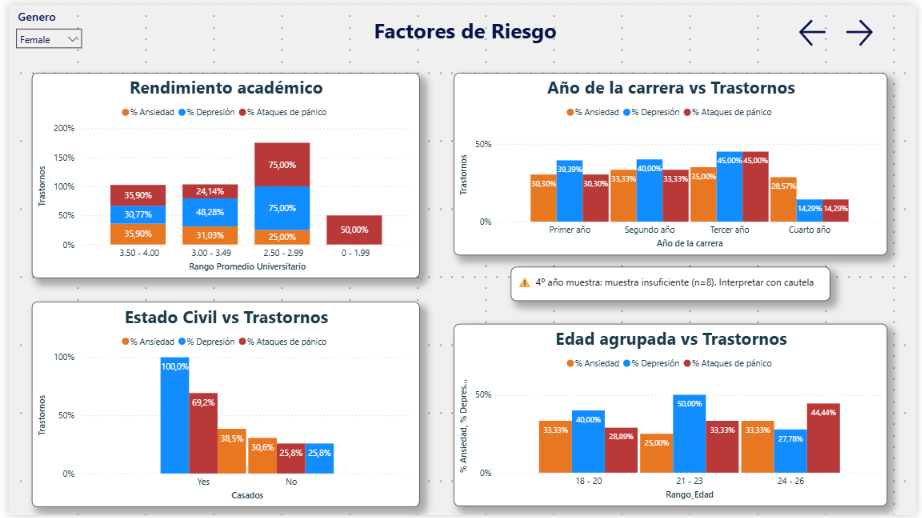

What the dashboard file says about the page in this screenshot:
{"tool":"powerbi","page":{"name":"Factores de Riesgo","canvas":[1280,720],"ordinal":1},"visuals":[{"type":"slicer","fields":{"Values":["Datos Limpios.Genero"]},"box":[0,0,112,64],"z":0},{"type":"columnChart","title":"Rendimiento académico","fields":{"Category":["Datos Limpios.Rango Promedio universitario"],"Y":["Datos Limpios.% Ansiedad","Datos Limpios.% Depresión","Datos Limpios.% Ataques de pánico"]},"box":[32,96,544,288],"z":1000},{"type":"clusteredColumnChart","title":"Estado Civil vs Trastornos","fields":{"Category":["Datos Limpios.Casados"],"Y":["Datos Limpios.% Ansiedad","Datos Limpios.% Depresión","Datos Limpios.% Ataques de pánico"]},"box":[32,416,544,288],"z":2000},{"type":"clusteredColumnChart","title":"Edad agrupada vs Trastornos","fields":{"Y":["Datos Limpios.% Ansiedad","Datos Limpios.% Depresión","Datos Limpios.% Ataques de pánico"],"Category":["Datos Limpios.Rango_Edad"]},"box":[624,448,608,256],"z":3000},{"type":"clusteredColumnChart","title":"Año de la carrera vs Trastornos","fields":{"Y":["Datos Limpios.% Ansiedad","Datos Limpios.% Depresión","Datos Limpios.% Ataques de pánico"],"Category":["Datos Limpios.Año_carrera"]},"box":[624,96,608,256],"z":4000},{"type":"textbox","box":[704,368,448,48],"z":5000},{"type":"textbox","title":"Factores de Riesgo","box":[496,16,288,48],"z":6000},{"type":"actionButton","box":[1104,16,48,48],"z":7000},{"type":"actionButton","box":[1168,16,48,48],"z":8000}]}

Visuals, with their boxes in screenshot pixels (x1, y1, x2, y2), scaled from the page's 1280x720 canvas onto the 922x518 screenshot:
slicer - Datos Limpios.Genero: <box>0,0,81,46</box>
"Rendimiento académico" columnChart: <box>23,69,415,276</box>
"Estado Civil vs Trastornos" clusteredColumnChart: <box>23,299,415,506</box>
"Edad agrupada vs Trastornos" clusteredColumnChart: <box>449,322,887,506</box>
"Año de la carrera vs Trastornos" clusteredColumnChart: <box>449,69,887,253</box>
textbox: <box>507,265,830,299</box>
"Factores de Riesgo" textbox: <box>357,12,565,46</box>
actionButton: <box>795,12,830,46</box>
actionButton: <box>841,12,876,46</box>
